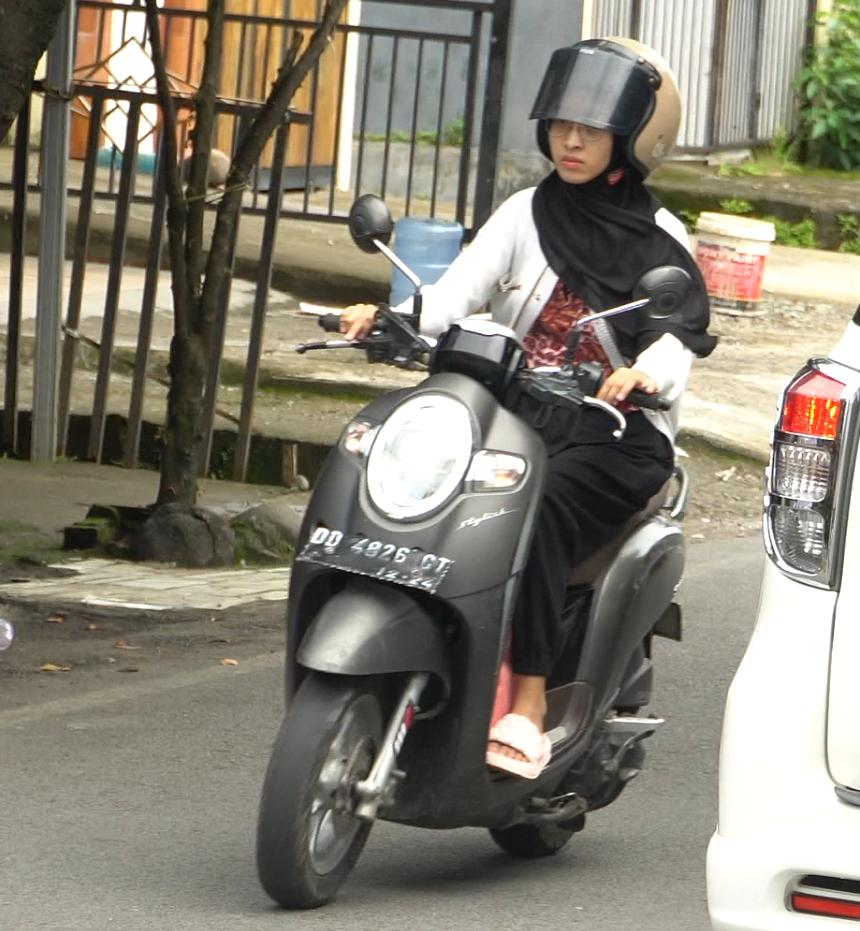number-plate: (305, 519, 450, 591)
